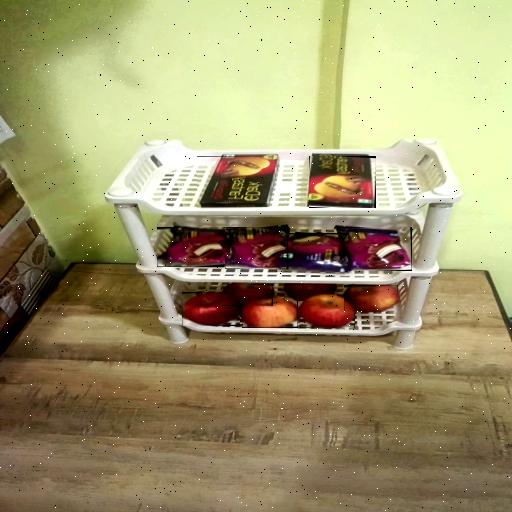Apple: (182, 292, 240, 326), (298, 295, 354, 328), (242, 298, 298, 328), (344, 285, 398, 312), (222, 284, 273, 306), (284, 284, 336, 301)
Choco Fills: (197, 156, 277, 210), (309, 156, 376, 208)
Choco Pie: (337, 227, 412, 271), (157, 227, 230, 267), (276, 233, 348, 272), (225, 227, 288, 269)
